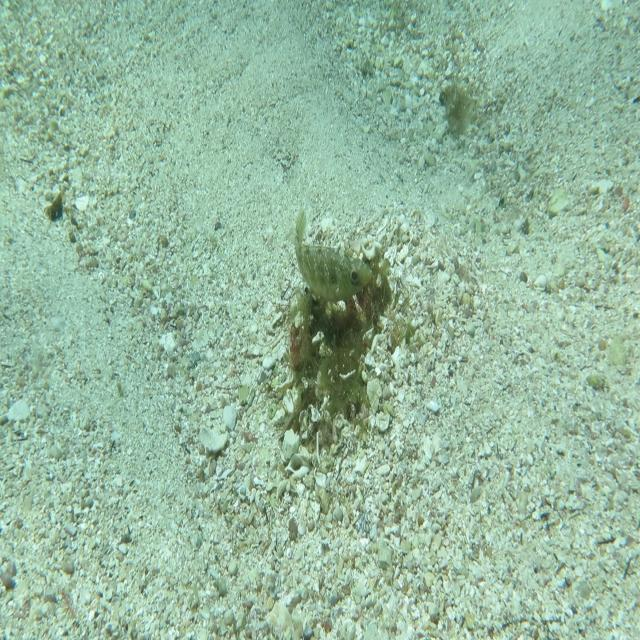FAN: (286, 205, 374, 304)
nest: (270, 228, 400, 436)
vegetation: (442, 74, 472, 141), (42, 190, 64, 222)
